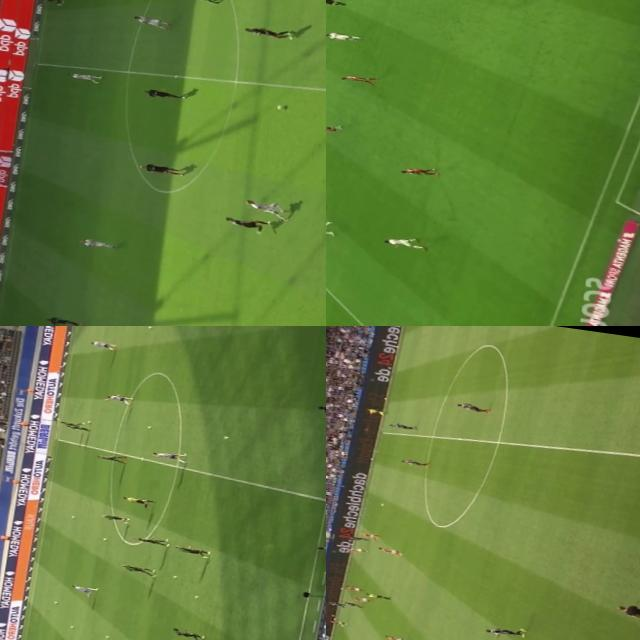ball: (264, 100, 292, 112), (376, 499, 388, 506), (102, 634, 109, 638), (70, 515, 76, 519), (67, 624, 73, 628), (146, 425, 152, 428), (224, 435, 228, 439), (103, 536, 107, 540), (194, 595, 198, 599), (172, 574, 177, 577), (86, 420, 92, 422), (53, 600, 57, 603), (147, 326, 152, 328)
player: (243, 198, 289, 220), (242, 24, 298, 42), (134, 158, 182, 178), (220, 215, 274, 232), (384, 232, 428, 252), (140, 86, 190, 102), (76, 235, 118, 252), (483, 622, 524, 639), (397, 163, 437, 179), (131, 14, 168, 31), (453, 398, 492, 414), (68, 70, 104, 86), (173, 544, 214, 558), (41, 313, 83, 326), (121, 562, 158, 576), (340, 70, 374, 85), (136, 534, 172, 548), (170, 626, 205, 640), (101, 390, 132, 404), (153, 450, 188, 462), (96, 452, 130, 464), (326, 30, 359, 42), (86, 338, 115, 351), (398, 456, 429, 468), (100, 512, 129, 524), (386, 420, 417, 431), (377, 544, 404, 556), (72, 585, 98, 596), (360, 528, 382, 540), (326, 122, 344, 135), (385, 631, 408, 640), (348, 532, 368, 542), (344, 582, 364, 592), (342, 598, 362, 608), (326, 219, 336, 238), (346, 545, 367, 554), (68, 423, 90, 431), (58, 419, 82, 426), (326, 618, 346, 626), (326, 598, 344, 606), (354, 596, 374, 602), (31, 0, 66, 3)
